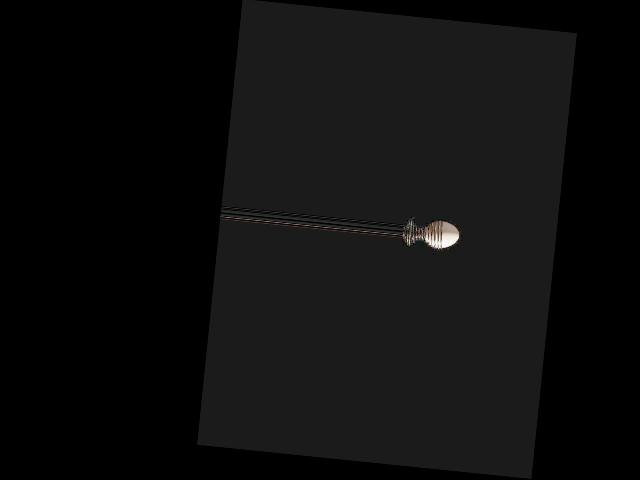egg: (423, 220, 460, 250)
